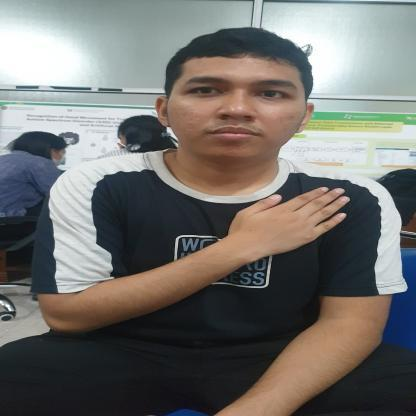Saya: (210, 184, 354, 265)
